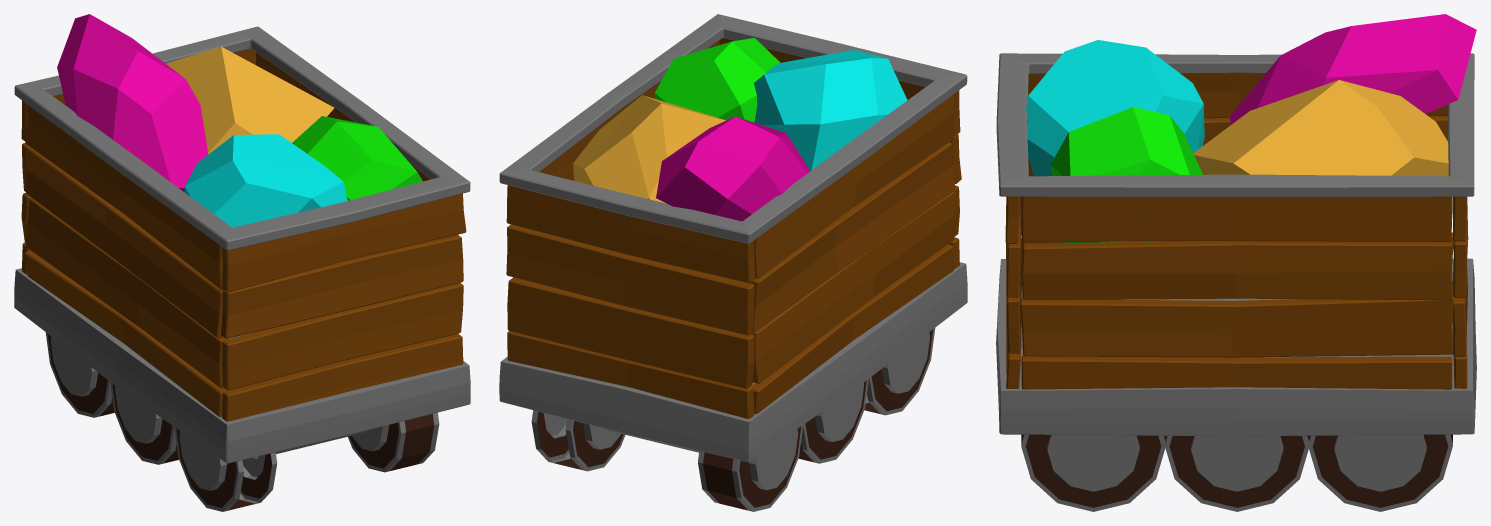
Rendered from minecart.gltf.
3 renders of one model, left to right at view 1: azimuth 30°, elevation 25°; view 2: azimuth 150°, elevation 25°; view 3: azimuth 270°, elevation 25°, orthographic. The views are drawn at different scales.
Parts seen in each view (by area): view 1: waggon, Cube.003, Waggon_Wheels, Cube.001, Cube, Cube.002; view 2: waggon, Waggon_Wheels, Cube.001, Cube.003, Cube, Cube.002; view 3: waggon, Waggon_Wheels, Cube, Cube.003, Cube.001, Cube.002.
Boxes of the visible parts, <box> form: waggon: <box>14,26,470,463</box>; Cube.003: <box>57,14,208,191</box>; Waggon_Wheels: <box>45,332,439,511</box>; Cube.001: <box>184,134,347,227</box>; Cube: <box>166,46,334,154</box>; Cube.002: <box>292,116,422,200</box>; waggon: <box>499,14,967,462</box>; Waggon_Wheels: <box>531,328,935,511</box>; Cube.001: <box>754,50,907,170</box>; Cube.003: <box>656,116,810,221</box>; Cube: <box>573,95,725,203</box>; Cube.002: <box>654,38,780,122</box>; waggon: <box>996,53,1476,436</box>; Waggon_Wheels: <box>1021,434,1452,511</box>; Cube: <box>1193,80,1448,176</box>; Cube.003: <box>1229,14,1476,124</box>; Cube.001: <box>1026,40,1204,176</box>; Cube.002: <box>1050,107,1202,242</box>.
Bounding box in the file's own units: 22.27 × 31.35 × 33.23.
